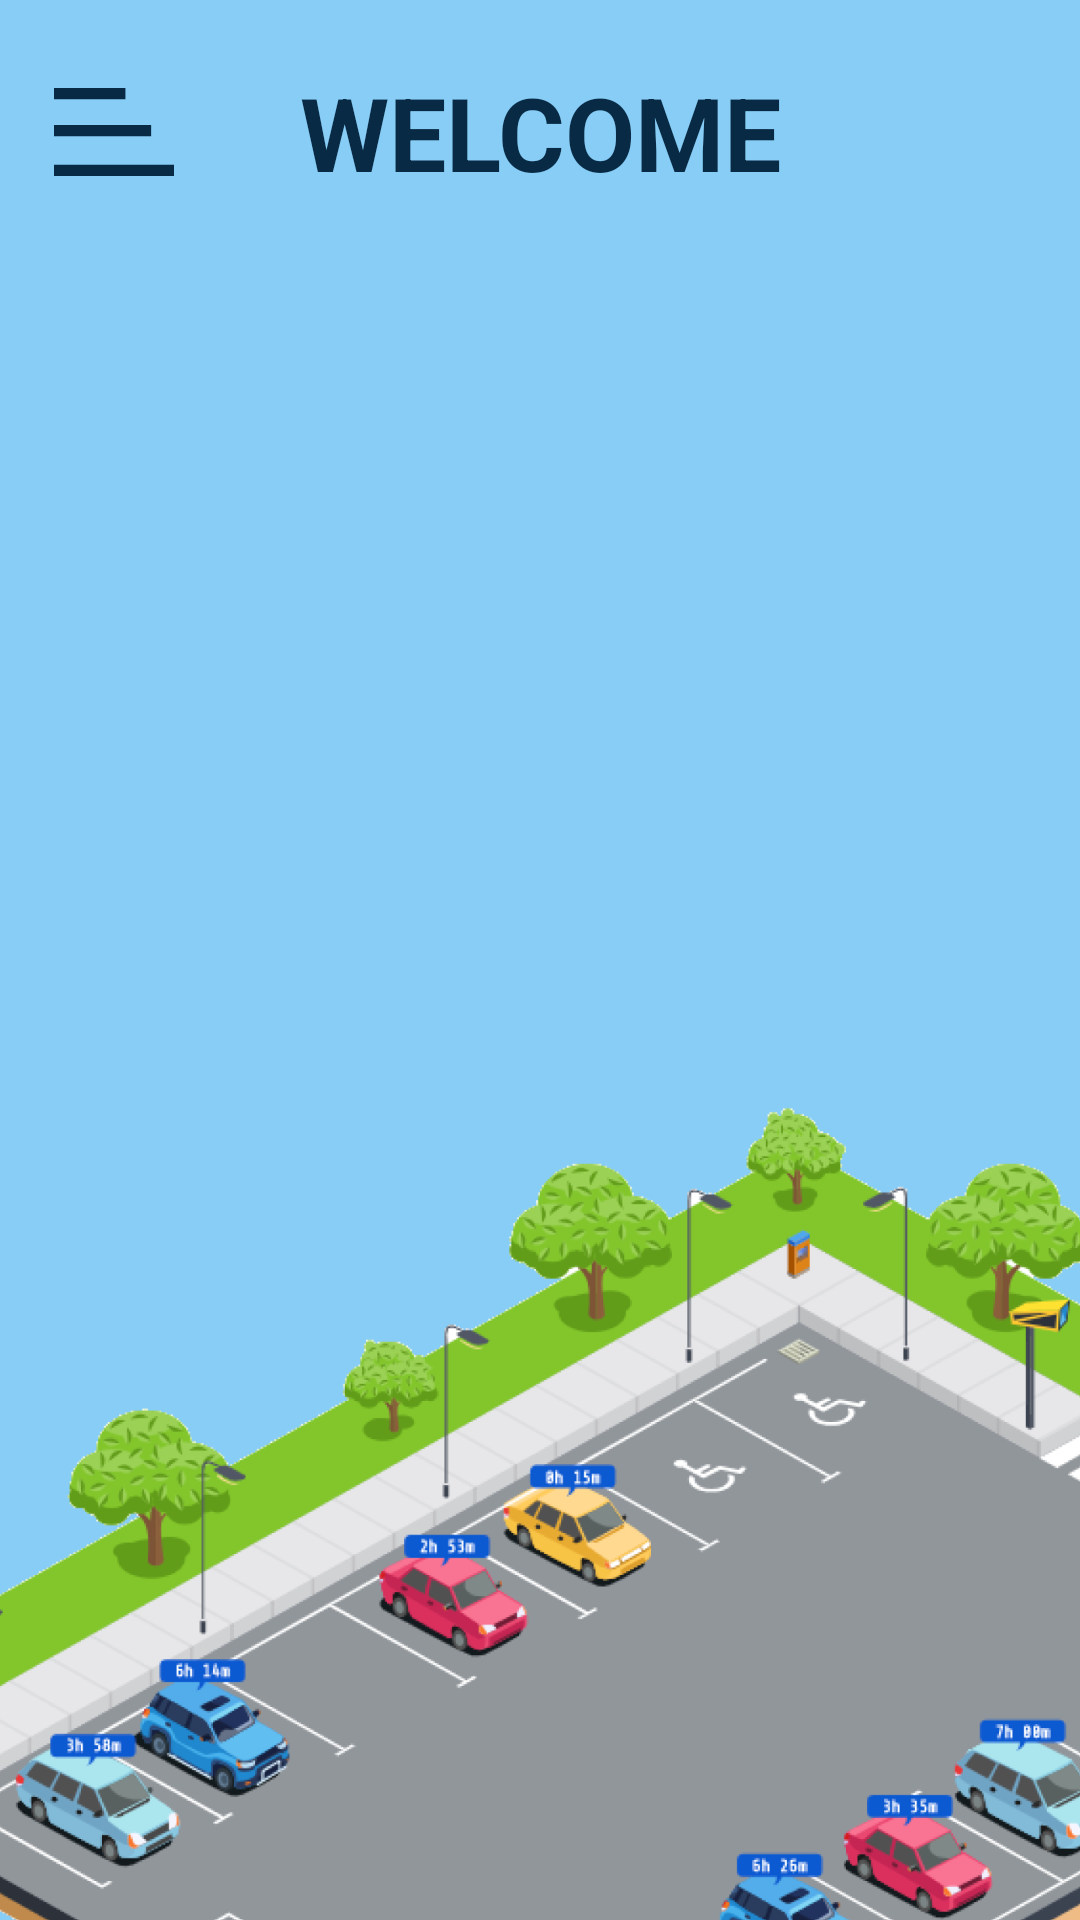

Named icons in this screenshot (1080×1920) and their centers, (x,y):
option: (114,132)
